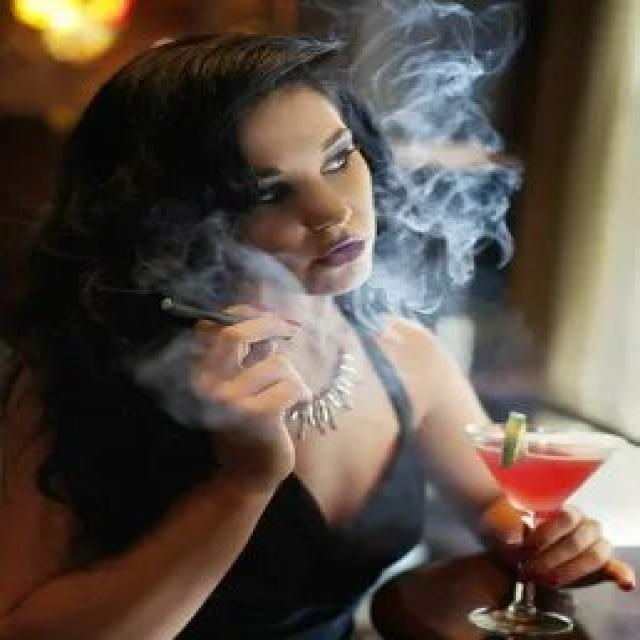cigarette: (154, 294, 260, 334)
